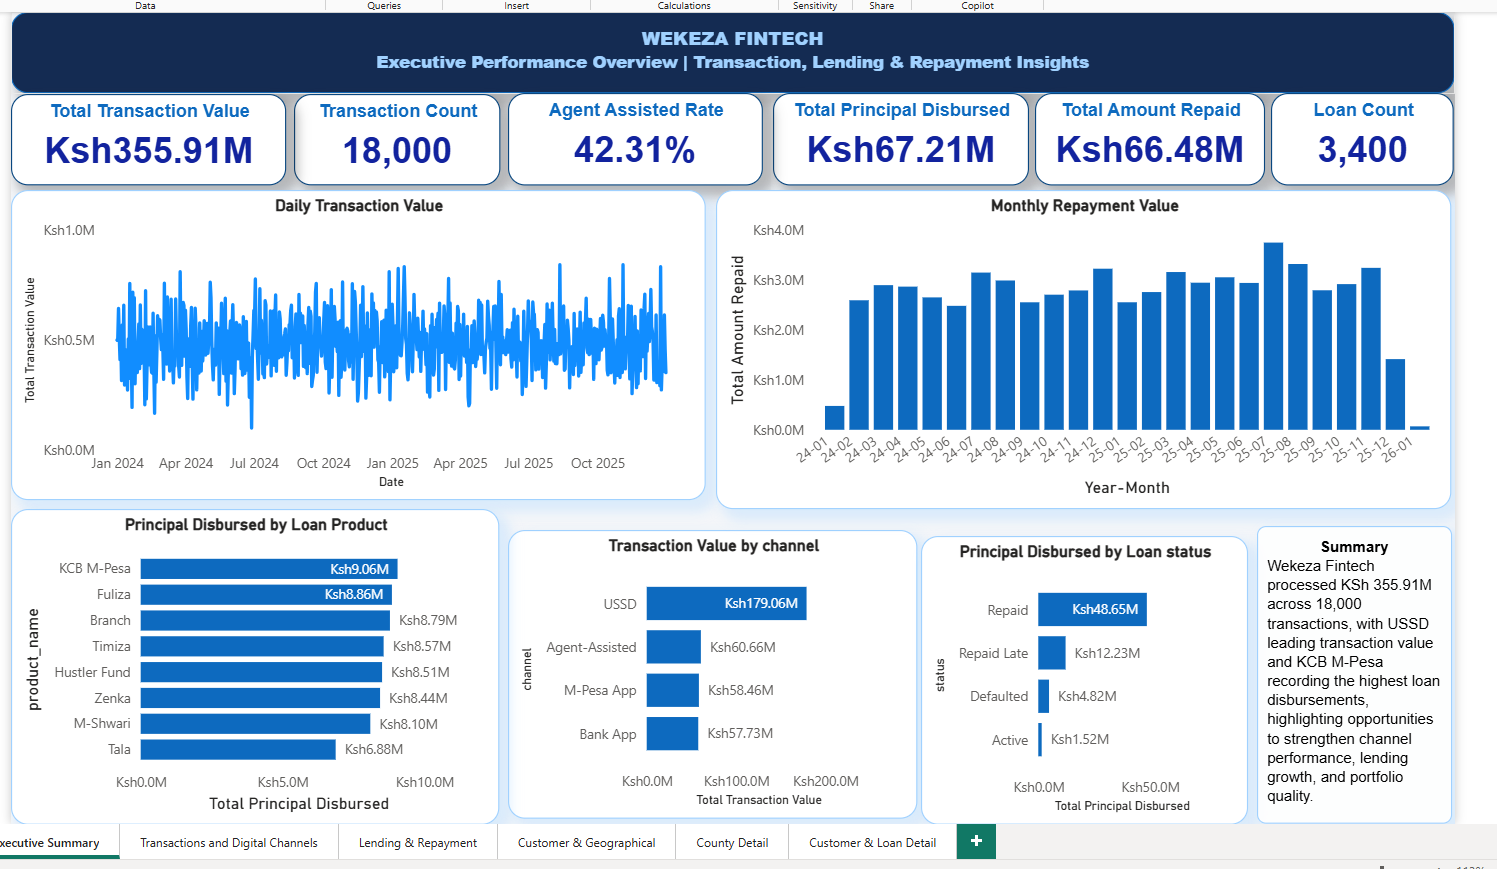

The dashboard page shown, as its layout file describes it:
{"tool":"powerbi","page":{"name":"Executive Summary","canvas":[1280,720],"ordinal":0},"visuals":[{"type":"textbox","box":[0,0,1280,72.5],"z":0},{"type":"card","title":"Transaction Count","fields":{"Values":["Wekeza_Measures.Transaction Count"]},"box":[250.5,72.5,182.6,80.7],"z":1000},{"type":"card","title":"Total Transaction Value","fields":{"Values":["Wekeza_Measures.Total Transaction Value"]},"box":[0,72.5,244.1,80.7],"z":2000},{"type":"card","title":"Total Principal Disbursed","fields":{"Values":["Wekeza_Measures.Total Principal Disbursed"]},"box":[675.3,71.6,226.6,81.7],"z":3000},{"type":"card","title":"Agent Assisted Rate","fields":{"Values":["Wekeza_Measures.Agent Assisted Transaction Rate"]},"box":[440.4,71.6,225.7,81.7],"z":4000},{"type":"card","title":"Total Amount Repaid","fields":{"Values":["Wekeza_Measures.Total Amount Repaid"]},"box":[908.4,71.6,203.7,81.7],"z":5000},{"type":"card","title":"Loan Count","fields":{"Values":["Wekeza_Measures.Loan Count"]},"box":[1117.6,71.6,162.4,81.7],"z":6000},{"type":"lineChart","title":"Daily Transaction Value","fields":{"Y":["Wekeza_Measures.Total Transaction Value"],"Category":["Wekeza_Date_Dim.Date"]},"box":[0,157.8,615.7,275.3],"z":7000},{"type":"clusteredBarChart","title":"Transaction Value by channel","fields":{"Category":["transactions.channel"],"Y":["Wekeza_Measures.Total Transaction Value"]},"box":[440.4,459.7,363.4,256],"z":8000},{"type":"barChart","title":"Principal Disbursed by Loan Product","fields":{"Y":["Wekeza_Measures.Total Principal Disbursed"],"Category":["loan_products.product_name"]},"box":[0,440.4,433.1,279.9],"z":9000},{"type":"clusteredColumnChart","title":"Monthly Repayment Value","fields":{"Y":["Wekeza_Measures.Total Amount Repaid"],"Category":["Repayment_Date_Dim.Year-Month"]},"box":[624.9,157.8,652.4,282.6],"z":10000},{"type":"barChart","title":"Principal Disbursed by Loan status","fields":{"Category":["loans.status"],"Y":["Wekeza_Measures.Total Principal Disbursed"]},"box":[806.5,464.3,289.9,256],"z":11000},{"type":"textbox","box":[1104.7,456,172.5,264.3],"z":12000}]}

Visuals, with their boxes on the page's 1280x720 design canvas (x1, y1, x2, y2). These are canvas units, not pixel positions in the 1497x869 screenshot, which may show the page scaled, cropped or inside an application window:
textbox: region(0, 0, 1280, 72)
"Transaction Count" card: region(250, 72, 433, 153)
"Total Transaction Value" card: region(0, 72, 244, 153)
"Total Principal Disbursed" card: region(675, 72, 902, 153)
"Agent Assisted Rate" card: region(440, 72, 666, 153)
"Total Amount Repaid" card: region(908, 72, 1112, 153)
"Loan Count" card: region(1118, 72, 1280, 153)
"Daily Transaction Value" lineChart: region(0, 158, 616, 433)
"Transaction Value by channel" clusteredBarChart: region(440, 460, 804, 716)
"Principal Disbursed by Loan Product" barChart: region(0, 440, 433, 720)
"Monthly Repayment Value" clusteredColumnChart: region(625, 158, 1277, 440)
"Principal Disbursed by Loan status" barChart: region(806, 464, 1096, 720)
textbox: region(1105, 456, 1277, 720)
